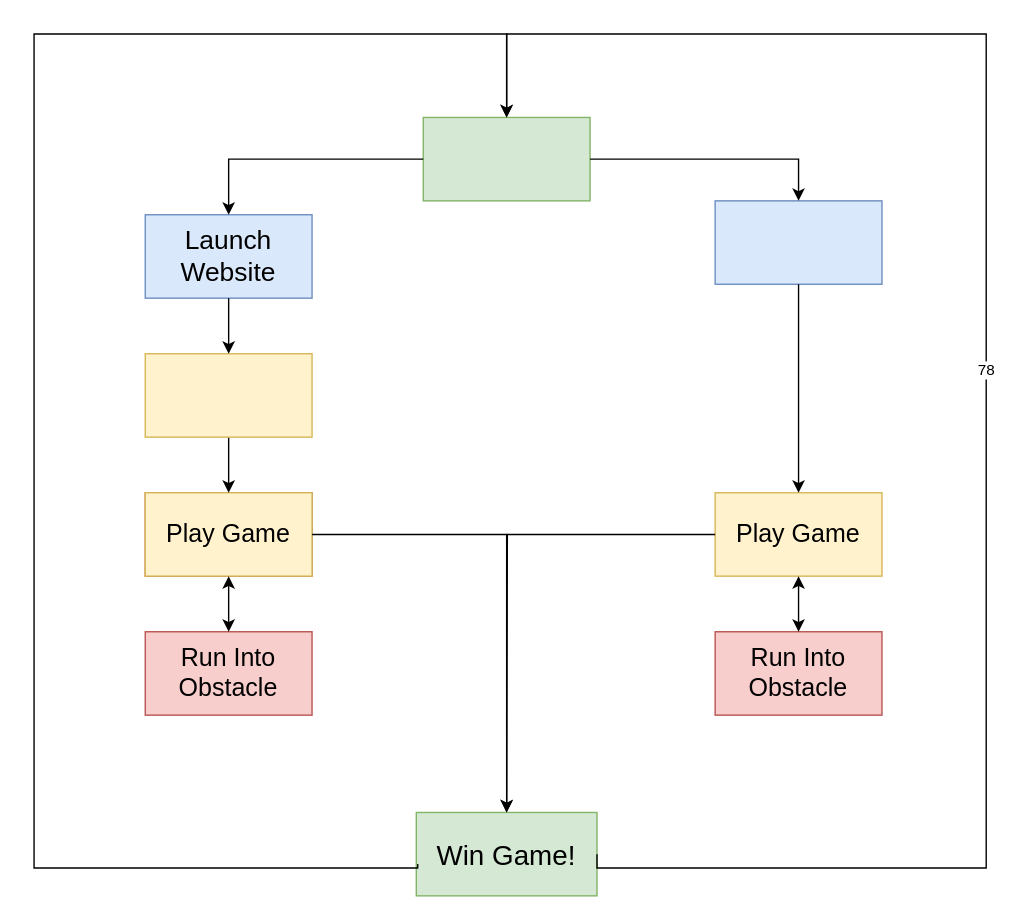
Image size: 1022x920. Some labels were removed from this diagram. The shapes that lost their labels are listed below. From the top down, each one's centre as x and y in pixels, then its label:
point (506, 158): Start
point (798, 241): Launch Local Code
point (228, 394): Head to "Game" page
